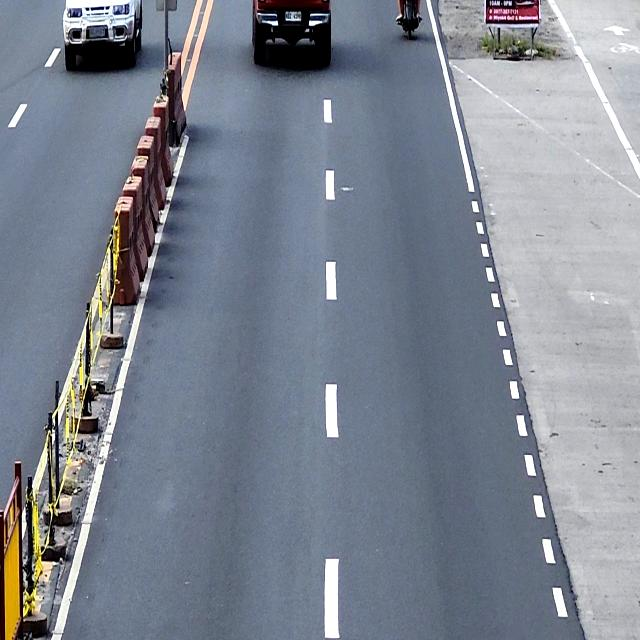Car: (62, 0, 143, 70), (252, 0, 332, 65)
License-Plate: (284, 9, 302, 23), (88, 25, 106, 39)
Motorcycle: (396, 0, 422, 40)
